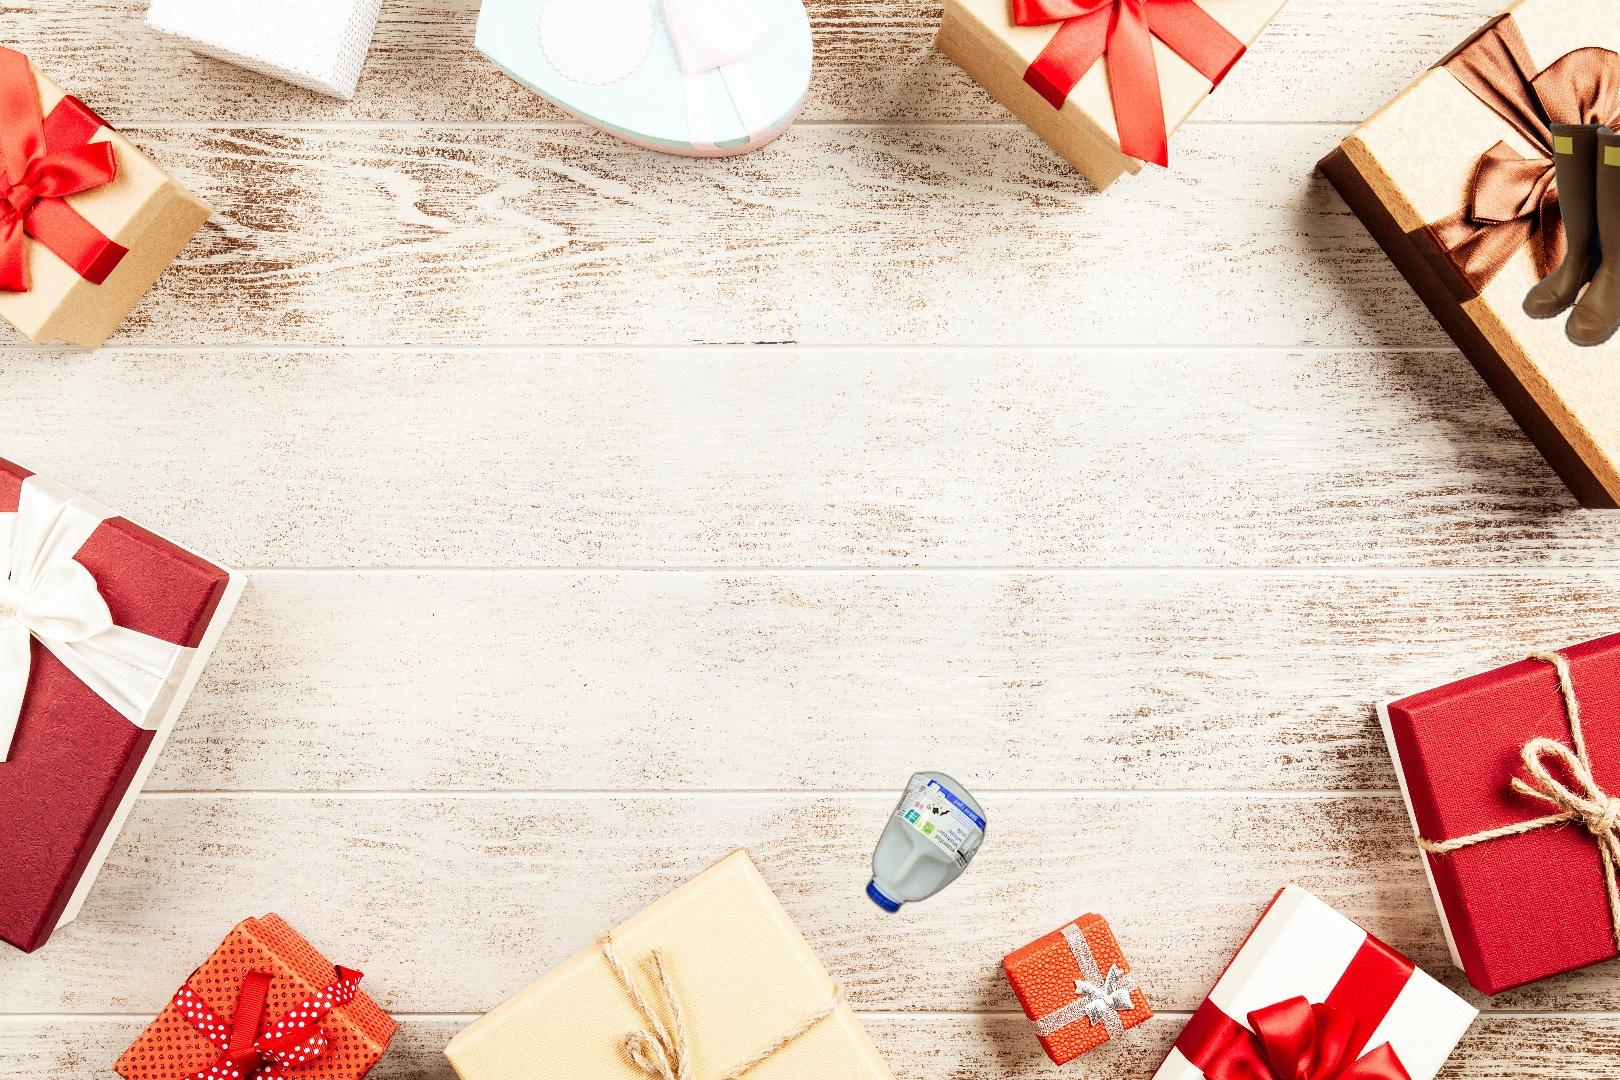plastic-bottles: (861, 765, 990, 918)
shoes: (1519, 122, 1620, 347)
